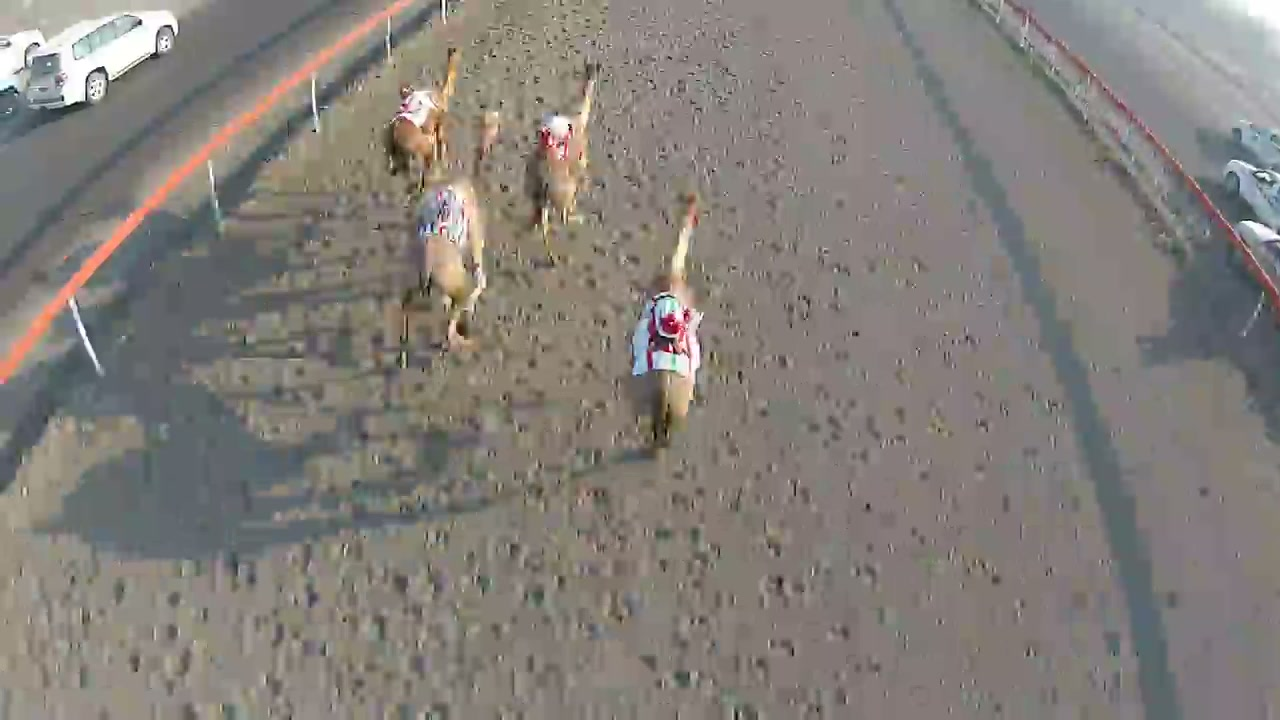animal_foot_print: (264, 191, 973, 713)
